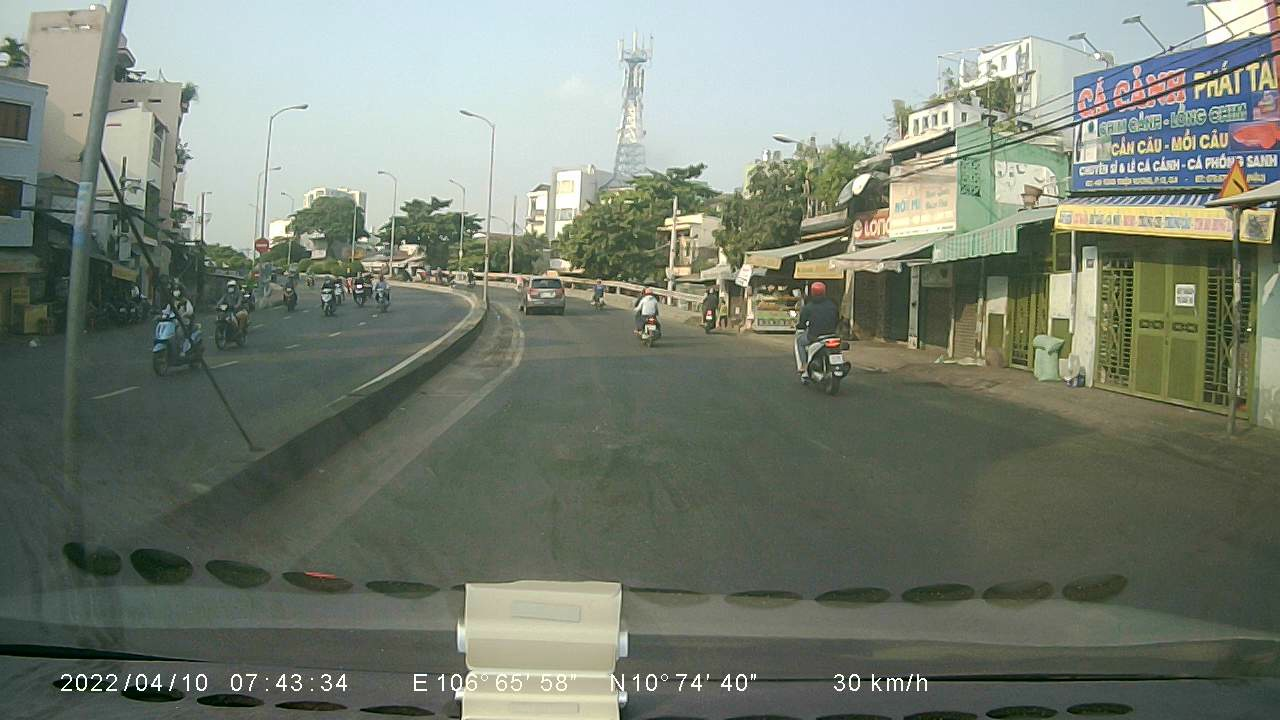Cam di nguoc chieu: (251, 234, 270, 255)
